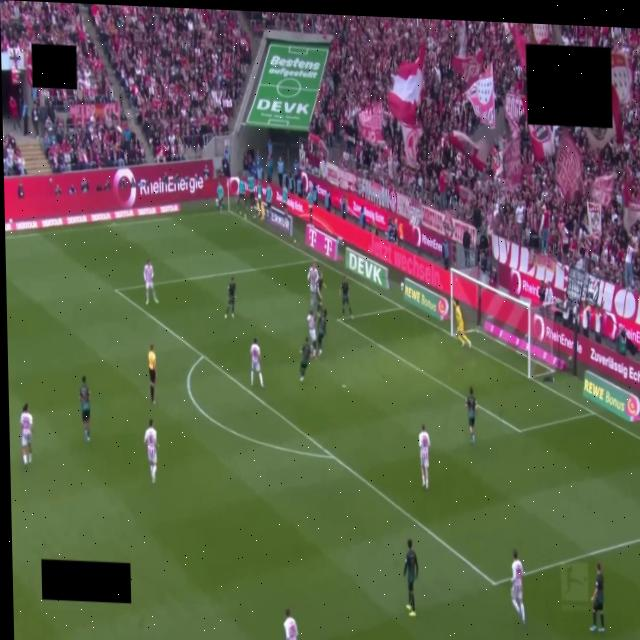player: (404, 539, 417, 617), (590, 563, 604, 633), (511, 550, 524, 622), (453, 299, 470, 348), (20, 404, 33, 465), (145, 419, 157, 483), (419, 425, 430, 490), (79, 376, 90, 441), (465, 388, 476, 444), (144, 260, 158, 304), (250, 339, 263, 386), (307, 262, 319, 310), (341, 277, 353, 318), (300, 338, 311, 381), (317, 310, 327, 356), (284, 608, 298, 639), (225, 277, 235, 319), (307, 311, 316, 357), (317, 273, 326, 314)
referee: (149, 344, 156, 404)
